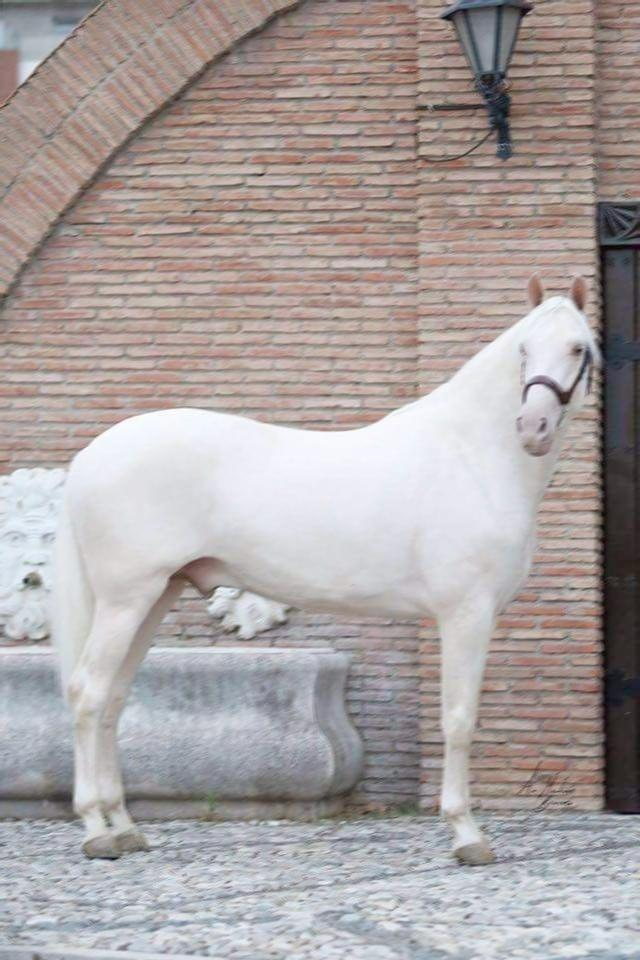horse: (49, 269, 604, 865)
